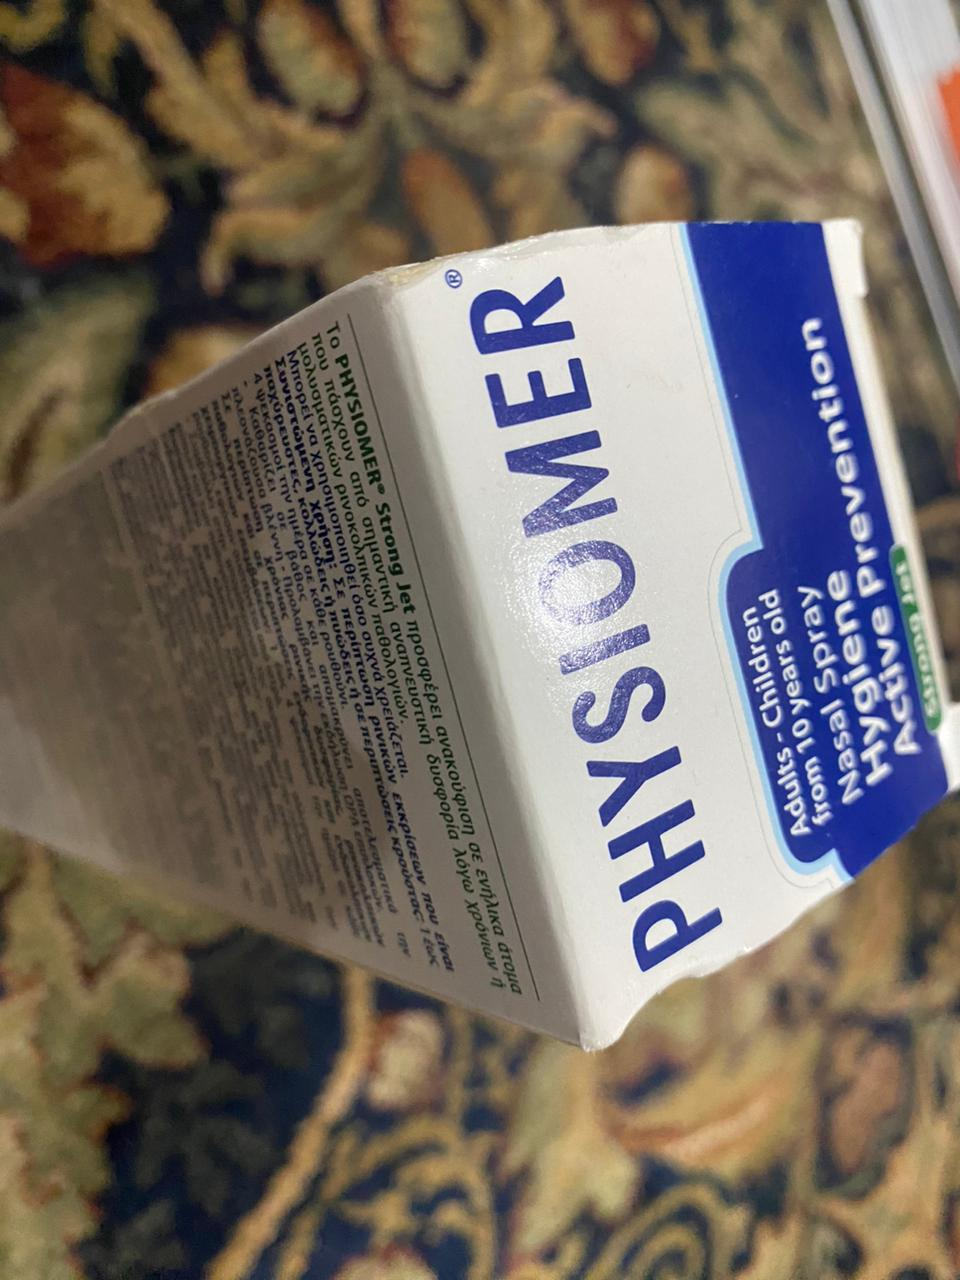Physiomer: (20, 212, 960, 1061)
